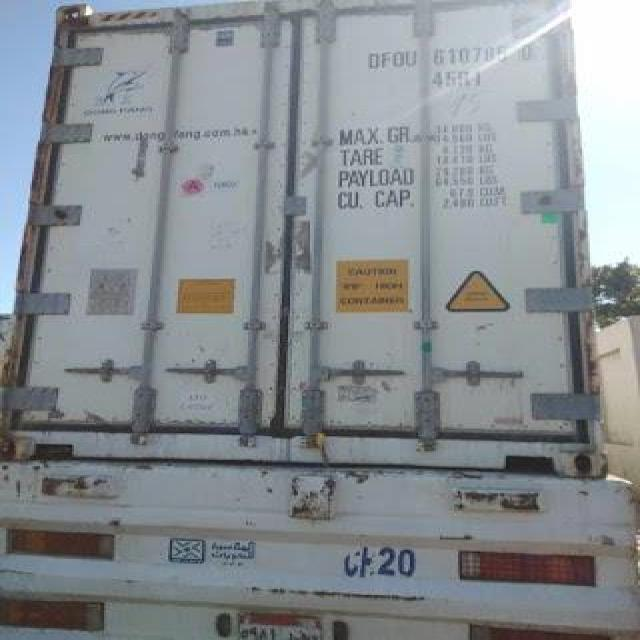ISO: (433, 68, 489, 92)
container_number: (362, 41, 538, 67)
